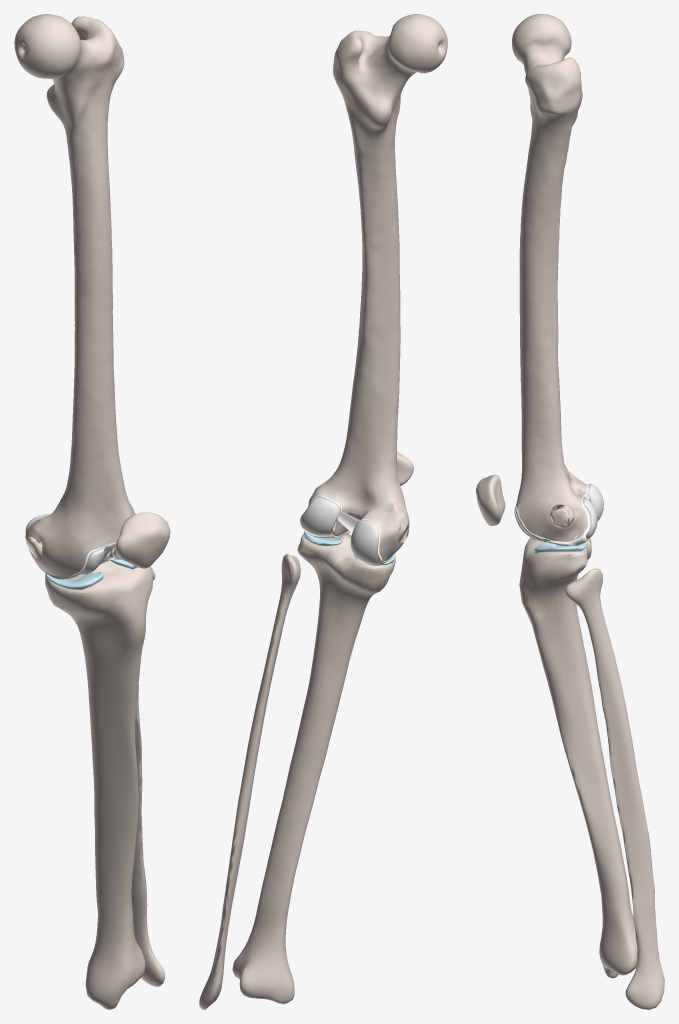
3 renders of one model, left to right at view 1: azimuth 30°, elevation 25°; view 2: azimuth 150°, elevation 25°; view 3: azimuth 270°, elevation 25°, orthographic. The views are drawn at different scales.
Parts seen in each view (by area): view 1: VH_M_femur_L, VH_M_tibia_L, VH_M_fibula_L, VH_M_patella_L, VH_M_meniscus_L, VH_M_articular_cartilage_of_knee_L; view 2: VH_M_femur_L, VH_M_tibia_L, VH_M_fibula_L, VH_M_lateral_condyle_of_femur_inf_L, VH_M_medial_condyle_of_left_femur_inf, VH_M_articular_cartilage_of_knee_L; view 3: VH_M_femur_L, VH_M_tibia_L, VH_M_fibula_L, VH_M_patella_L, VH_M_articular_cartilage_of_knee_L.
Boxes of the visible parts, x1,y1,x2,y2 form: VH_M_femur_L: (14, 14, 135, 577); VH_M_tibia_L: (45, 560, 153, 1009); VH_M_fibula_L: (131, 568, 164, 986); VH_M_patella_L: (115, 512, 170, 568); VH_M_meniscus_L: (47, 559, 137, 589); VH_M_articular_cartilage_of_knee_L: (26, 514, 116, 579); VH_M_femur_L: (308, 14, 447, 560); VH_M_tibia_L: (232, 533, 395, 1004); VH_M_fibula_L: (199, 554, 300, 1009); VH_M_lateral_condyle_of_femur_inf_L: (300, 496, 340, 536); VH_M_medial_condyle_of_left_femur_inf: (350, 520, 380, 564); VH_M_articular_cartilage_of_knee_L: (307, 495, 388, 565); VH_M_femur_L: (512, 14, 587, 541); VH_M_tibia_L: (519, 537, 637, 978); VH_M_fibula_L: (565, 568, 664, 1009); VH_M_patella_L: (476, 474, 505, 525); VH_M_articular_cartilage_of_knee_L: (515, 483, 590, 545).
Size of the model in its own units: 0.1734 by 0.8875 by 0.1646.
